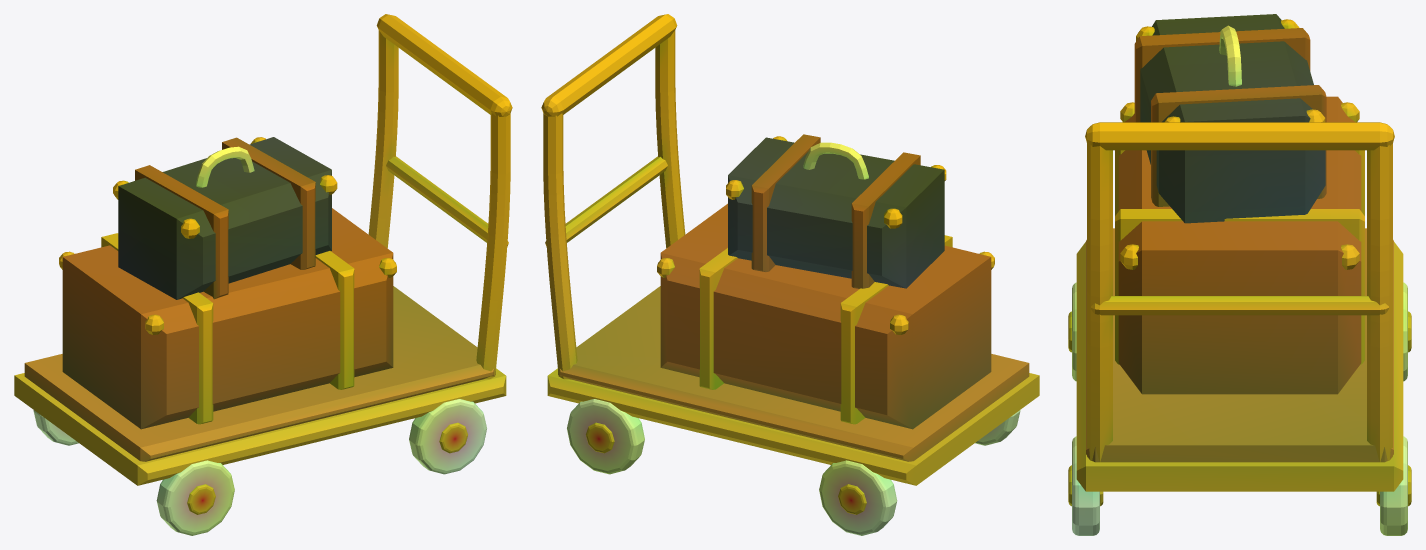
Rendered from Prop_LuggageCart.fbx.
The picture shows the model from 3 angles, left to right: view 1: azimuth 30°, elevation 25°; view 2: azimuth 150°, elevation 25°; view 3: azimuth 270°, elevation 25°; orthographic projection. The views are drawn at different scales.
Visible parts, largest first — view 1: Prop_LuggageCart; view 2: Prop_LuggageCart; view 3: Prop_LuggageCart.
Part boxes in pixels (x1=…): Prop_LuggageCart: x1=14, y1=14, x2=512, y2=535; Prop_LuggageCart: x1=541, y1=14, x2=1039, y2=535; Prop_LuggageCart: x1=1068, y1=14, x2=1411, y2=535.
Size of the model in its own units: 1.17 by 1.05 by 0.735.
